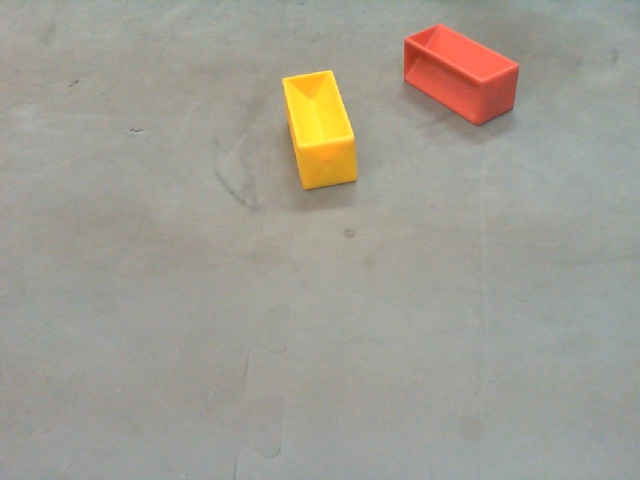RedSample: (403, 24, 523, 127)
YellowSample: (278, 68, 360, 193)
